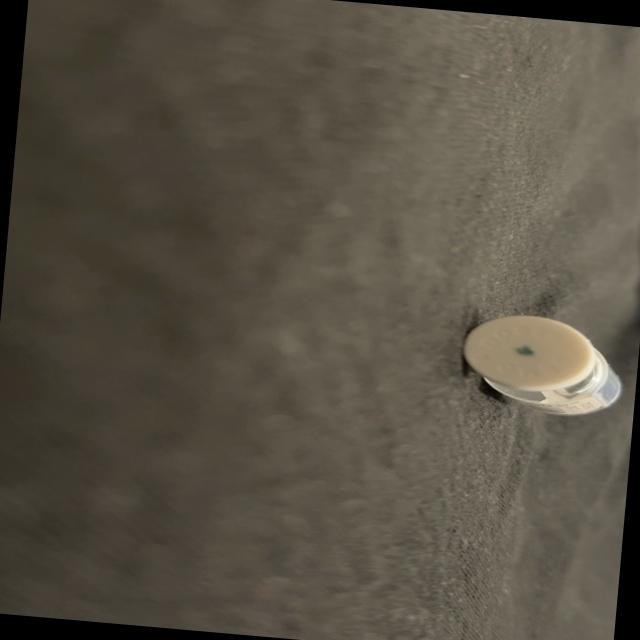fentanl_citrat: (458, 311, 625, 418)
